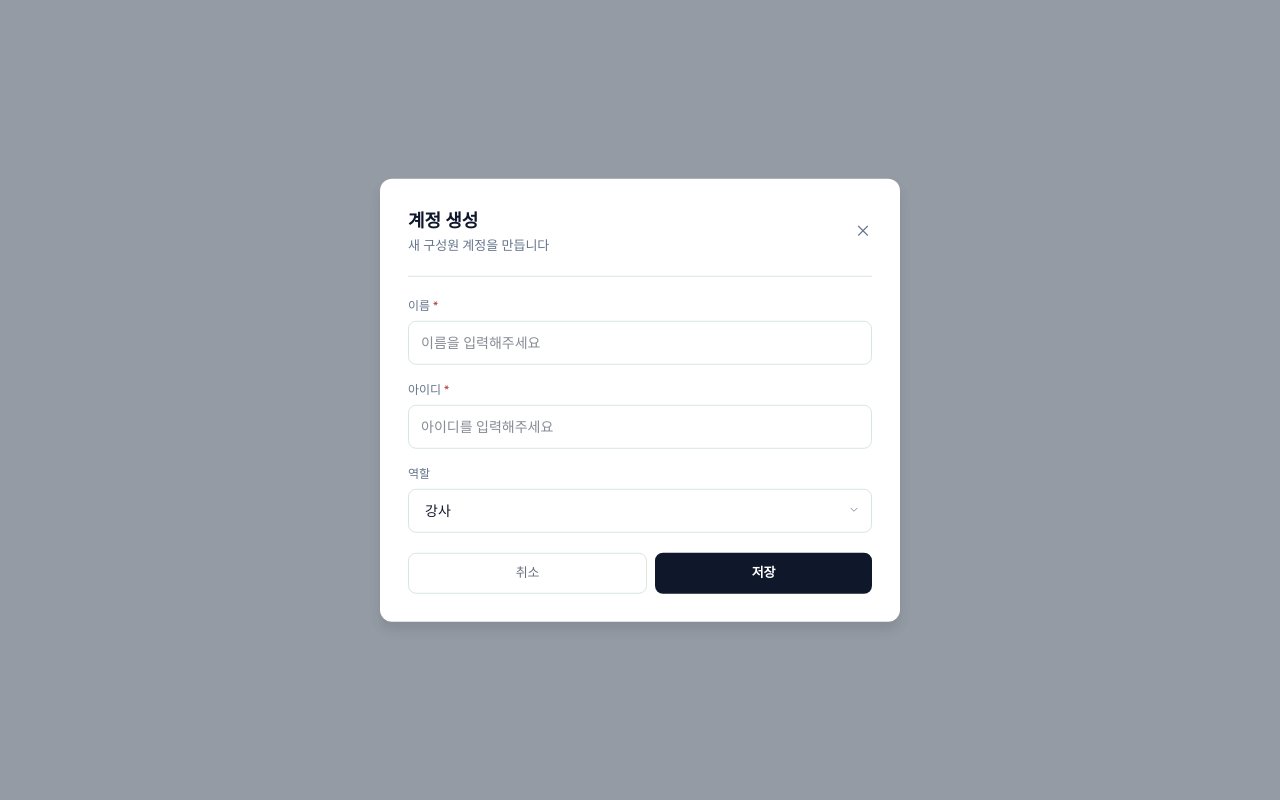
Scenario: CreateMemberModal › 필수 값을 입력하고 저장하면 발급된 임시 비밀번호를 노출한다
Type "김민수" into the field with placeholder "이름을 입력해주세요" at (640, 342), box [408,320,872,364]
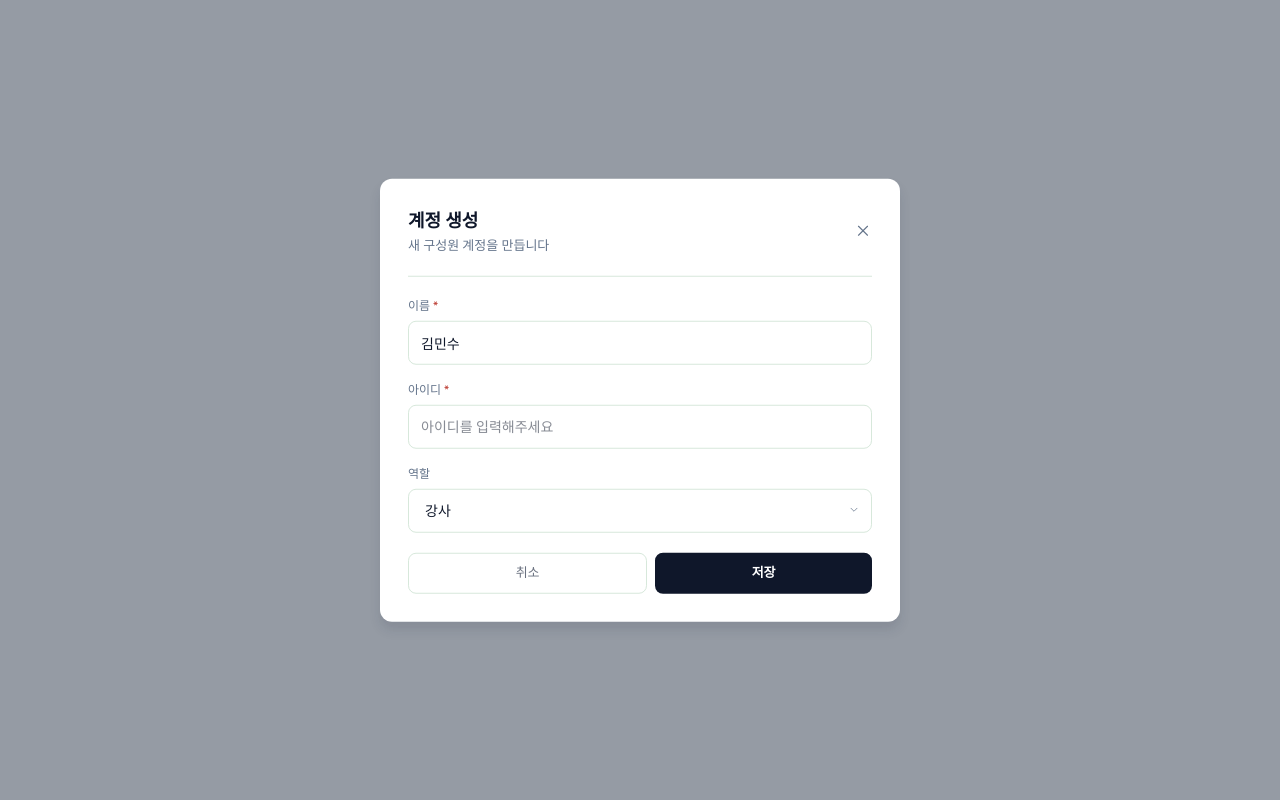
Type "kimms" into the field with placeholder "아이디를 입력해주세요" at (640, 426), box [408,404,872,448]
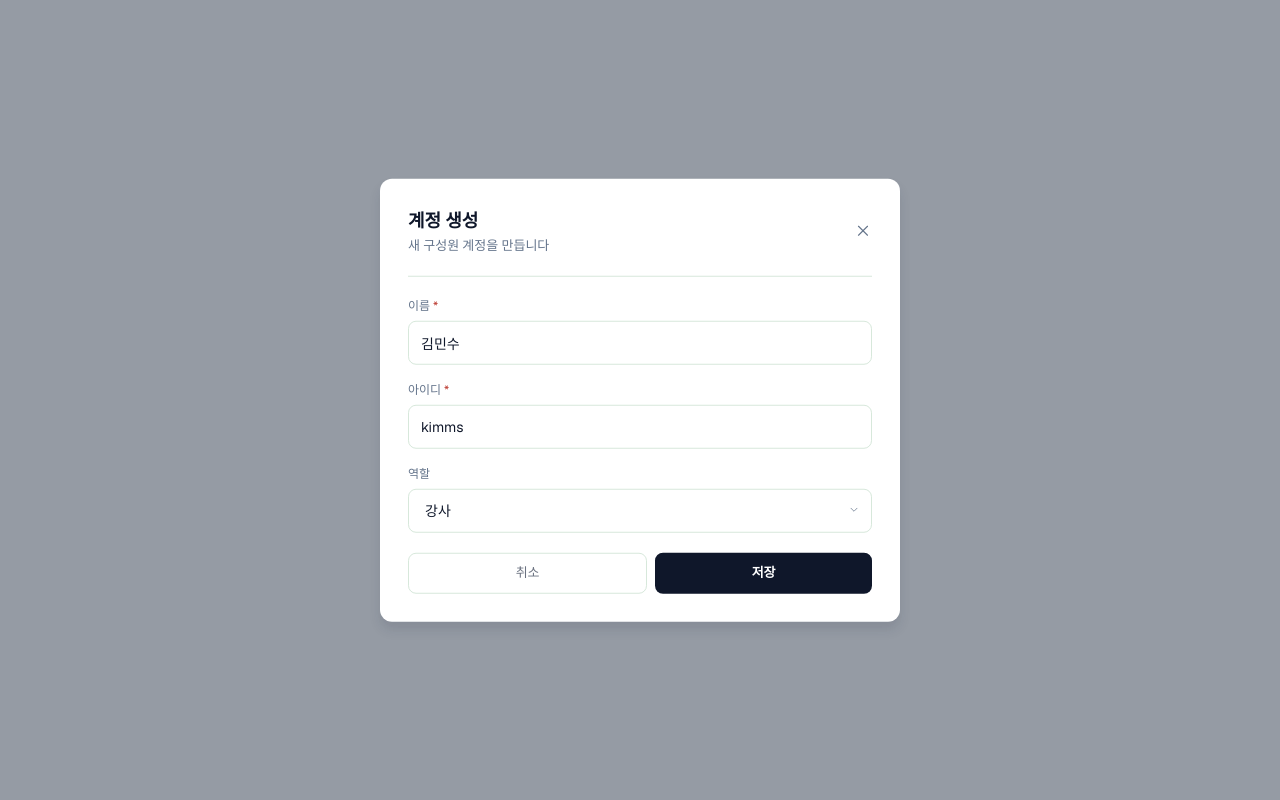
Select "강사" in the dropdown at (640, 510), box [408,488,872,532]
Click the button "저장" at (764, 573), box [655,552,872,593]
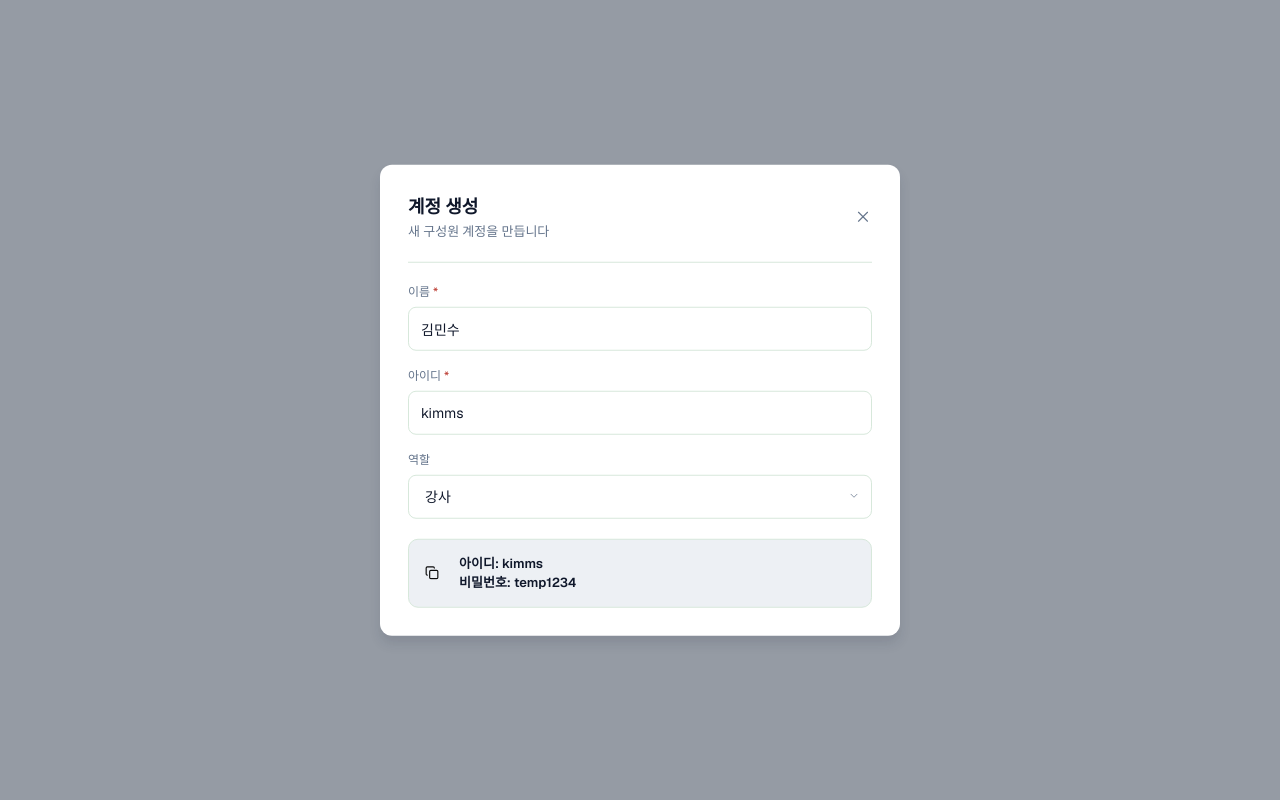
Result: the text "아이디: kimms" is shown at [459,554,543,571]
Result: the text "비밀번호: temp1234" is shown at [459,573,576,592]
